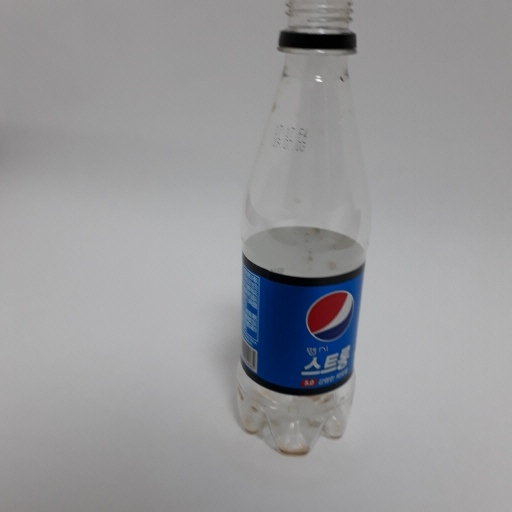Plastic_0: (239, 1, 373, 464)
